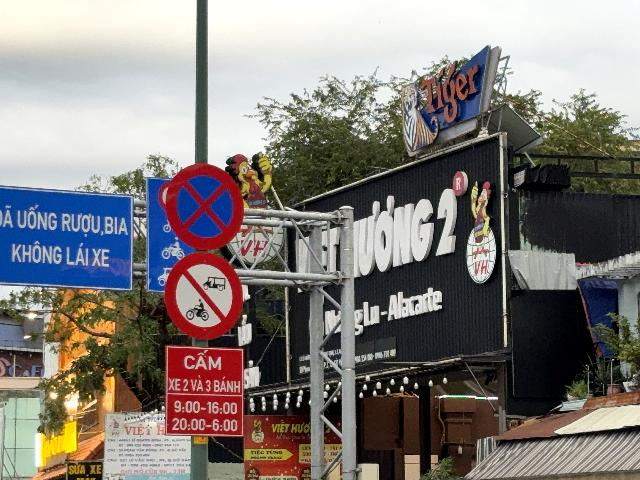cam-dung-va-do-xe: (166, 164, 244, 250)
cam-xe-2-banh-3-banh: (163, 250, 243, 340)
